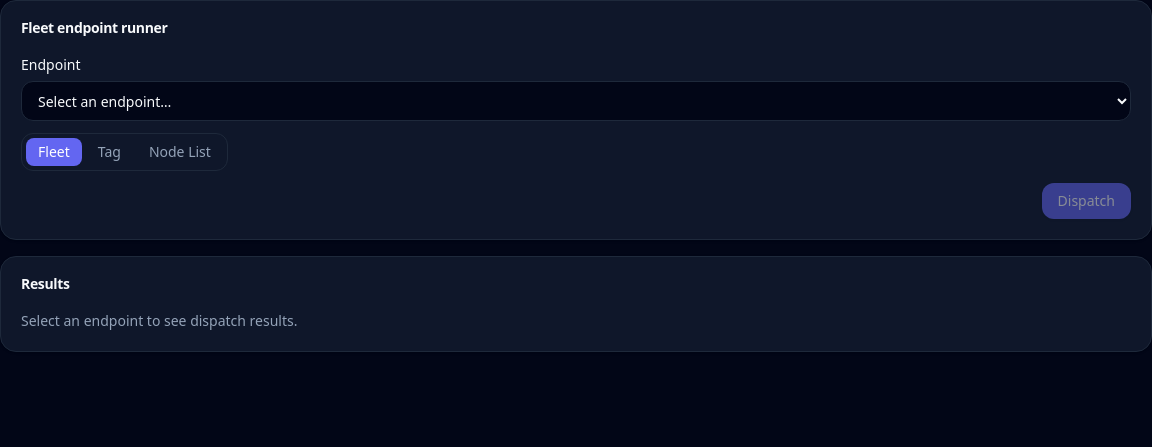
Test case: FleetEndpointRunner › switches inputs based on target mode selection
Expected: the tab "Fleet" is shown, [26,138,82,166]
# Switch to Tag
Click the tab "Tag" at (109, 152), box [86,138,133,166]
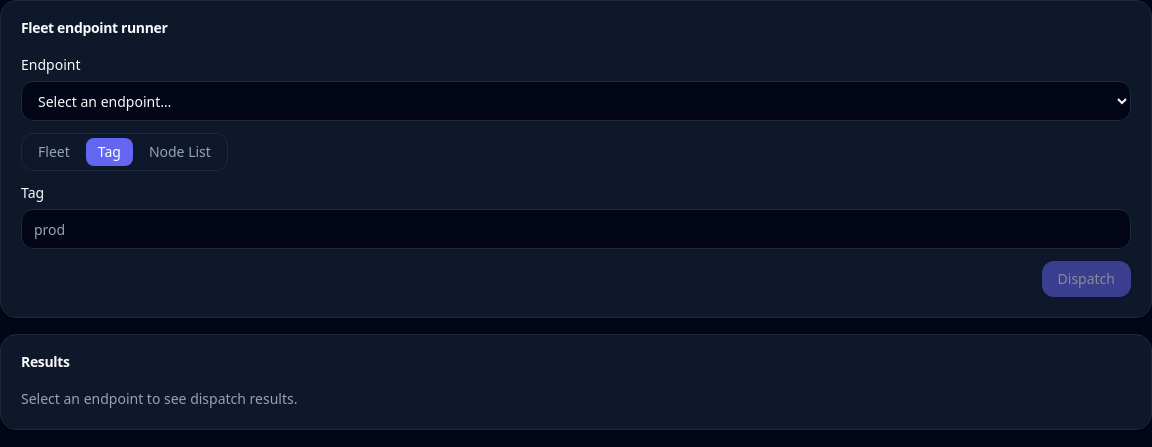
Expected: the field labelled "Tag" is shown, [21,209,1131,249]
# Switch to Node List
Click the tab "Node List" at (180, 152), box [137,138,223,166]
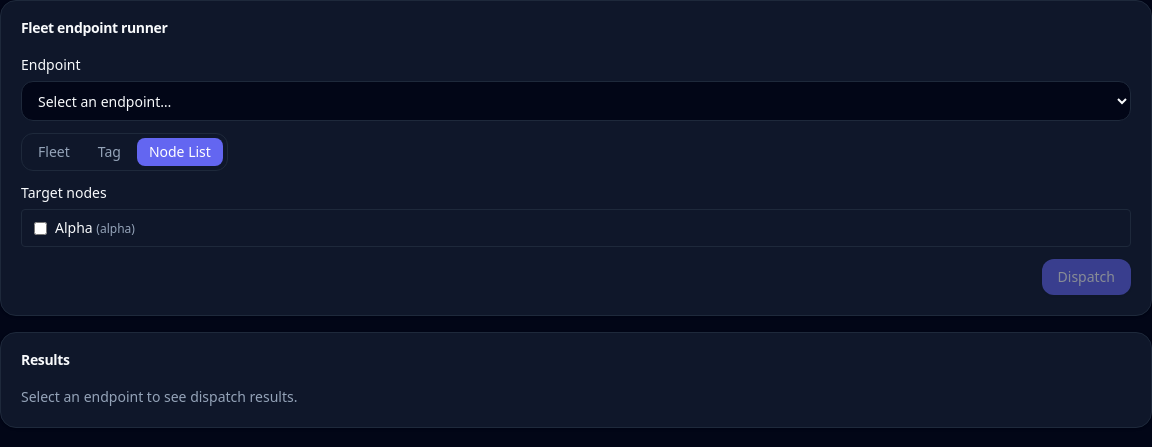
Expected: the list is shown, [21,209,1131,247]
Expected: the text "Alpha (alpha)" is shown, [55,218,135,238]
